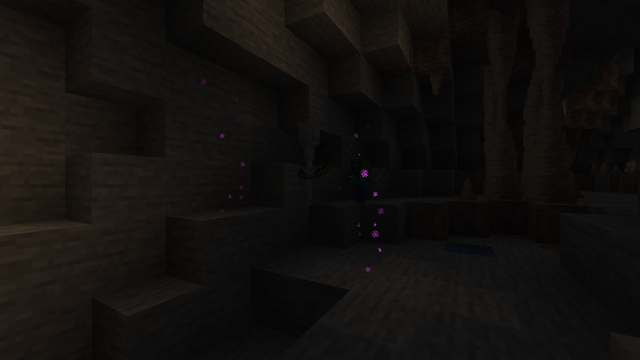squelettes: (292, 122, 324, 205)
zombies: (353, 166, 367, 203)
